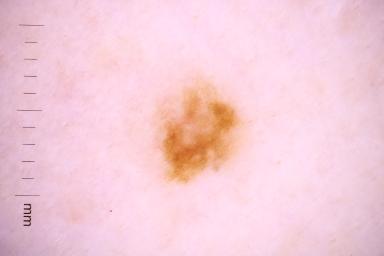nevus: (163, 84, 237, 183)
